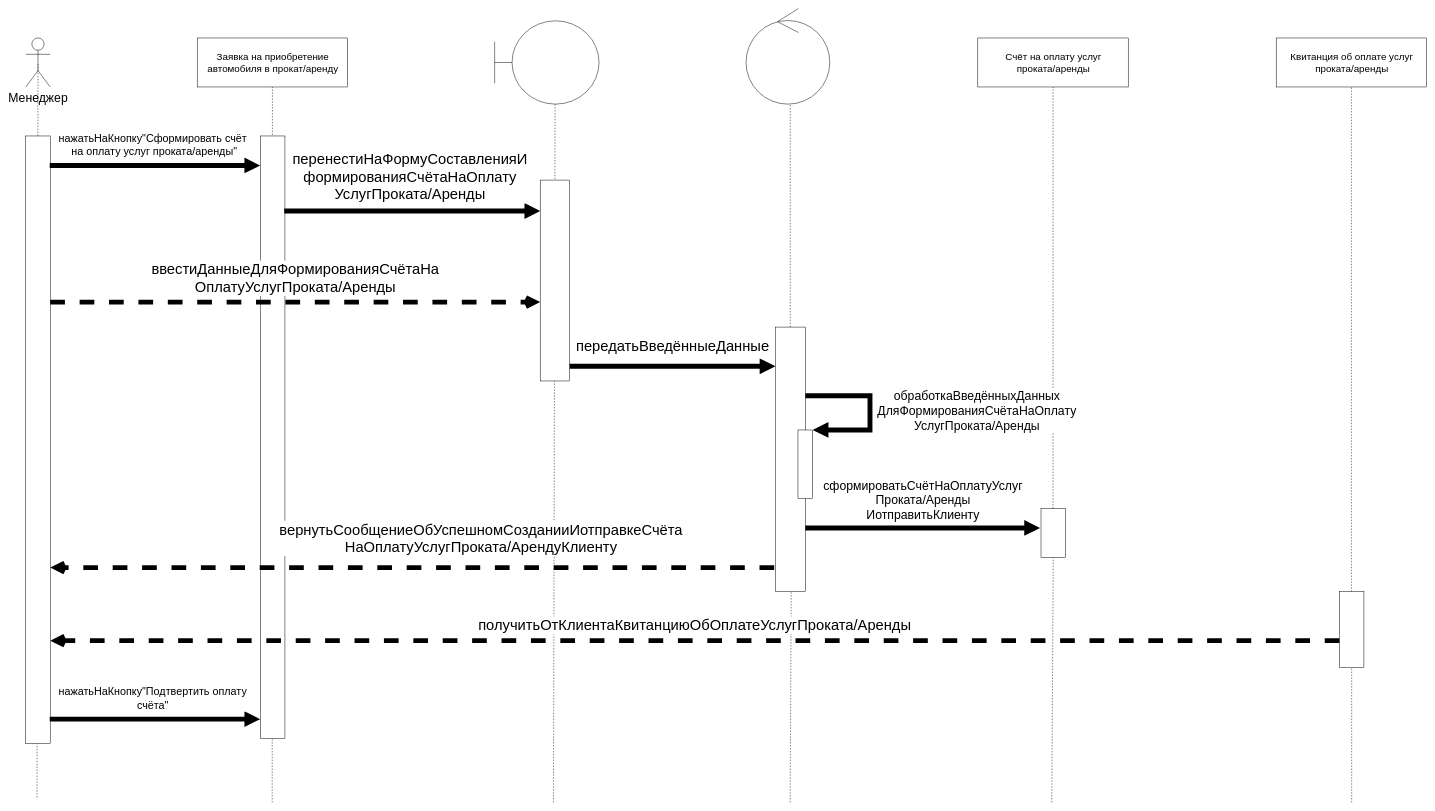
This 1435x811 diagram has some shape labels left out. The shapes that lost their labels are listed below. From the top down, each one's centre as x and y in pixels, then its label:
At (546,62): "форма составления и формирования счёта на оплату услуг проката/аренды".
At (788,56): "Обработчик формы составления и формирования счёта на оплату услуг проката/аренды".
